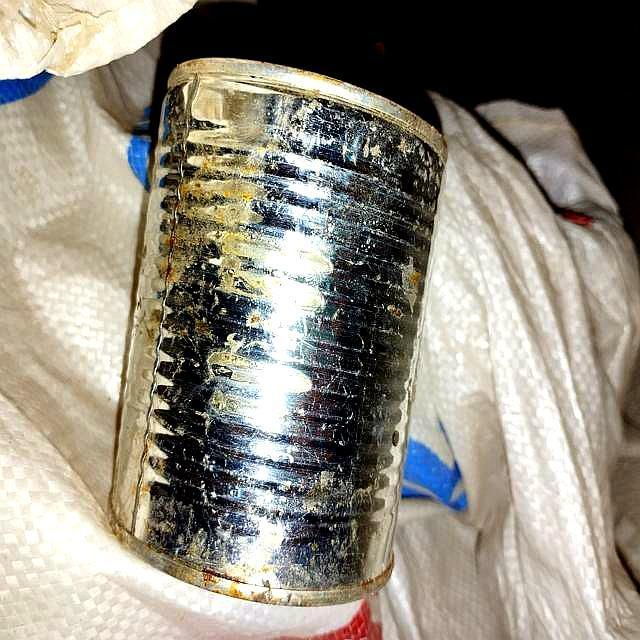Non-biodegradable: (106, 56, 451, 608)
